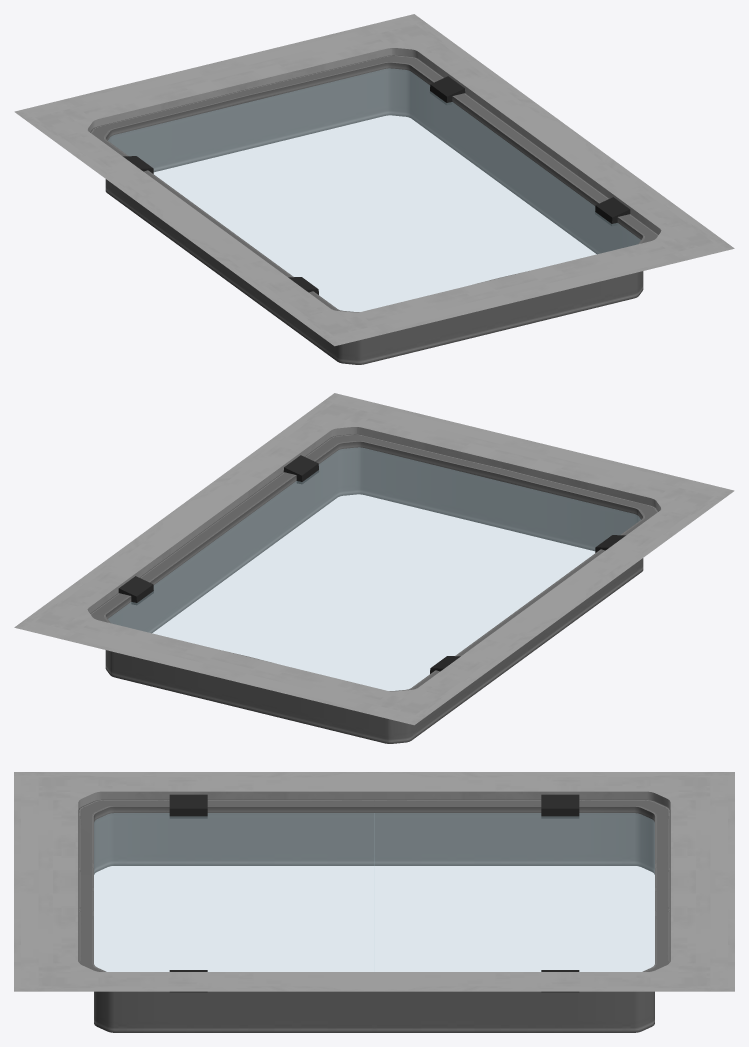
Rendered from sf_glass_floor.glb.
3 renders of one model, top to bottom at view 1: azimuth 30°, elevation 25°; view 2: azimuth 150°, elevation 25°; view 3: azimuth 270°, elevation 25°, orthographic. The views are drawn at different scales.
Parts seen in each view (by area): view 1: Platform_Window_Thin; view 2: Platform_Window_Thin; view 3: Platform_Window_Thin.
Part boxes in pixels (left/top/right/bottom): Platform_Window_Thin: left=14, top=14, right=734, bottom=364; Platform_Window_Thin: left=14, top=393, right=734, bottom=743; Platform_Window_Thin: left=14, top=772, right=734, bottom=1032.
Bounding box in the file's own units: 2.88 × 0.4133 × 4.
4 materials, 3 textured.
